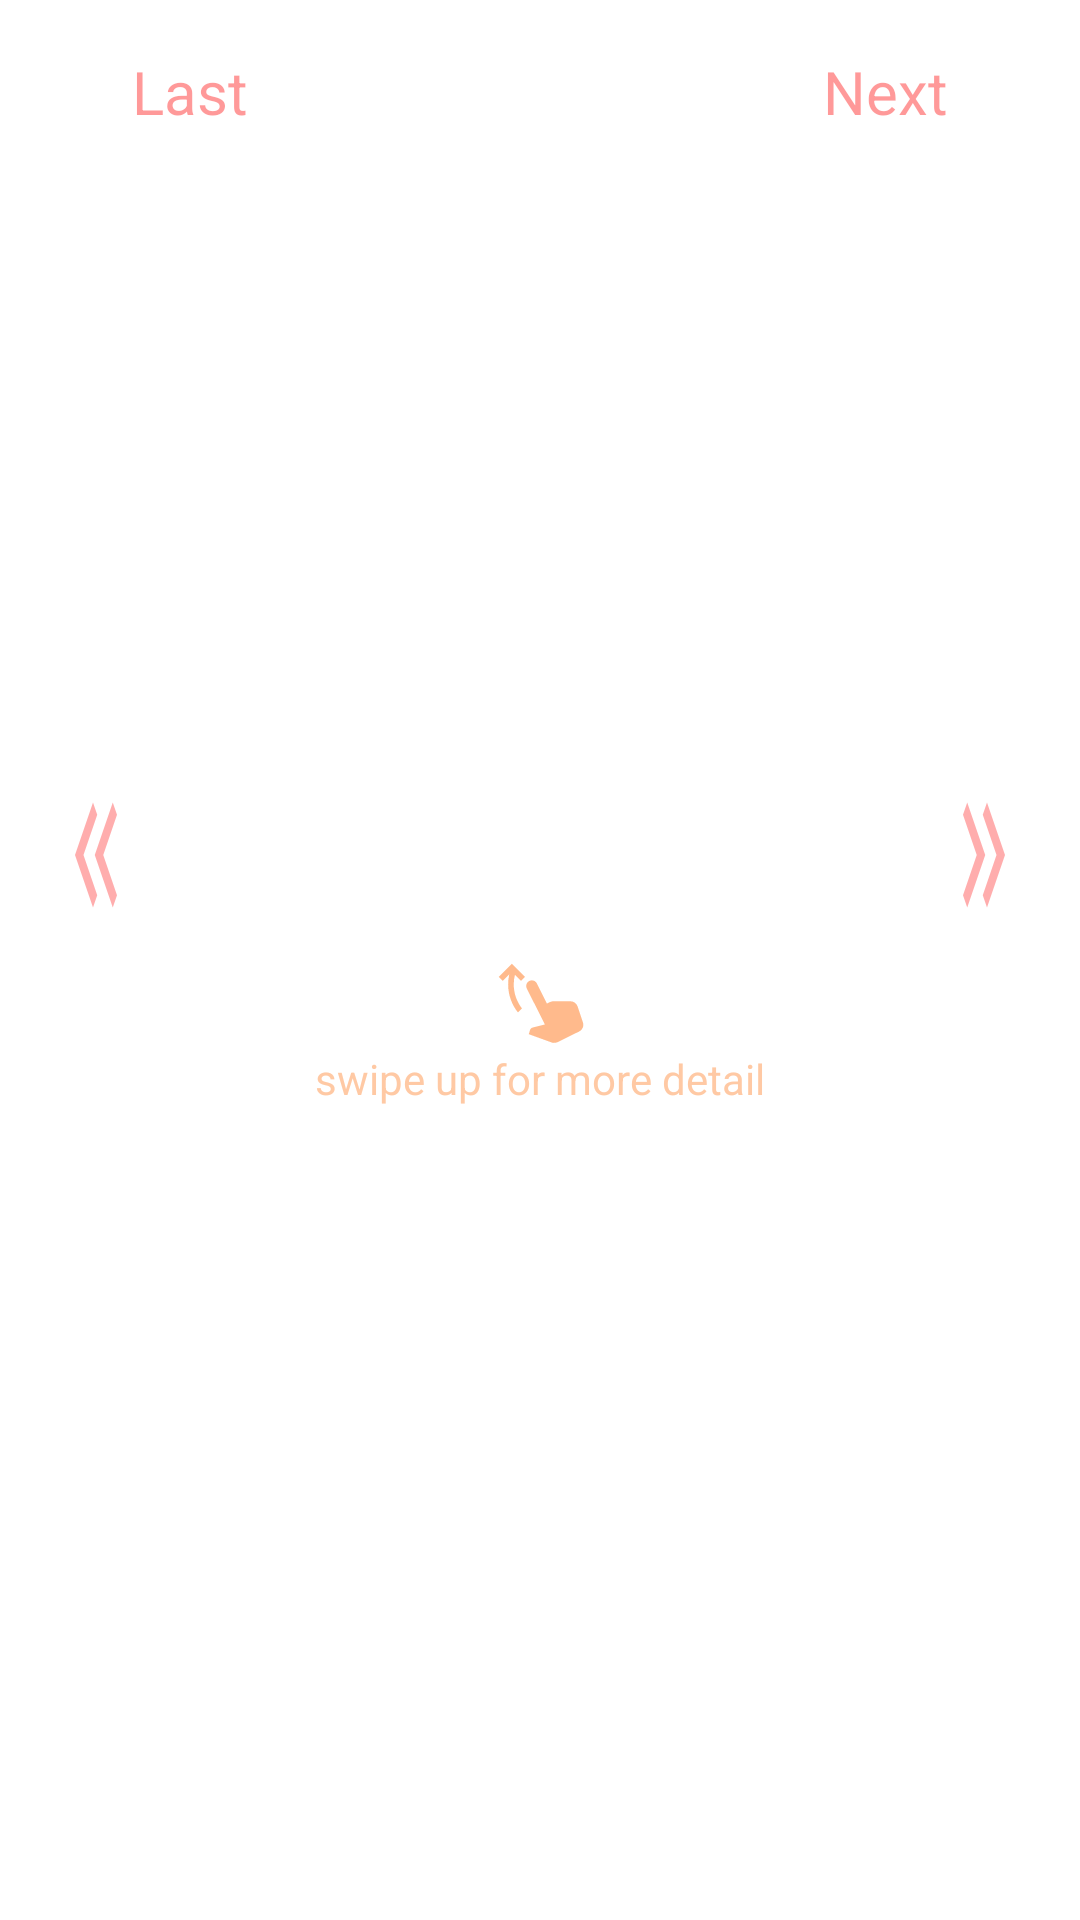

Point at icon controls on the screen. Image size 1080 x 1920, points as point (x, y).
left swipe: point (96, 855)
right swipe: point (984, 855)
scroll up: point (541, 1003)
